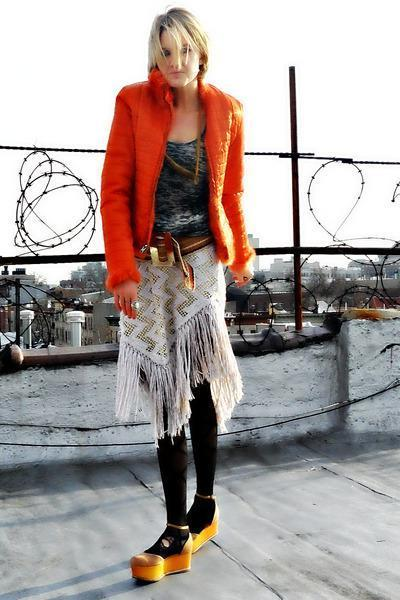coat: (92, 74, 258, 296)
skirt: (111, 241, 238, 426)
vest: (143, 122, 218, 243)
